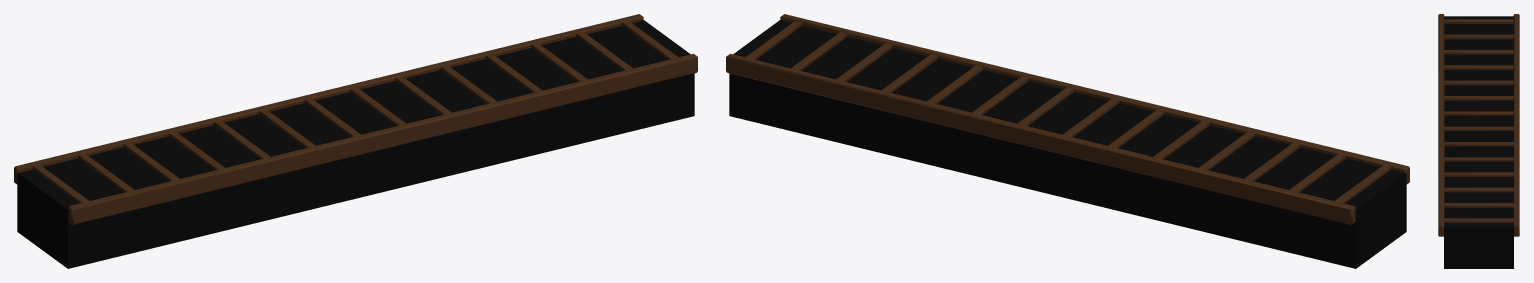
The model's file is terrace-drain-grate.lod0.glb.
3 views of the same model, side by side, from view 1: azimuth 30°, elevation 25°; view 2: azimuth 150°, elevation 25°; view 3: azimuth 270°, elevation 25° (orthographic). The views are drawn at different scales.
Parts seen in each view (by area): view 1: terrace_drain_grate_Trim • places palette; view 2: terrace_drain_grate_Trim • places palette; view 3: terrace_drain_grate_Trim • places palette.
Part boxes in pixels (x1=…): terrace_drain_grate_Trim • places palette: x1=14, y1=14, x2=697, y2=268; terrace_drain_grate_Trim • places palette: x1=726, y1=14, x2=1409, y2=268; terrace_drain_grate_Trim • places palette: x1=1438, y1=14, x2=1519, y2=268.
Size of the model in its own units: 1 by 0.096 by 0.162.
1 material, 1 textured.
